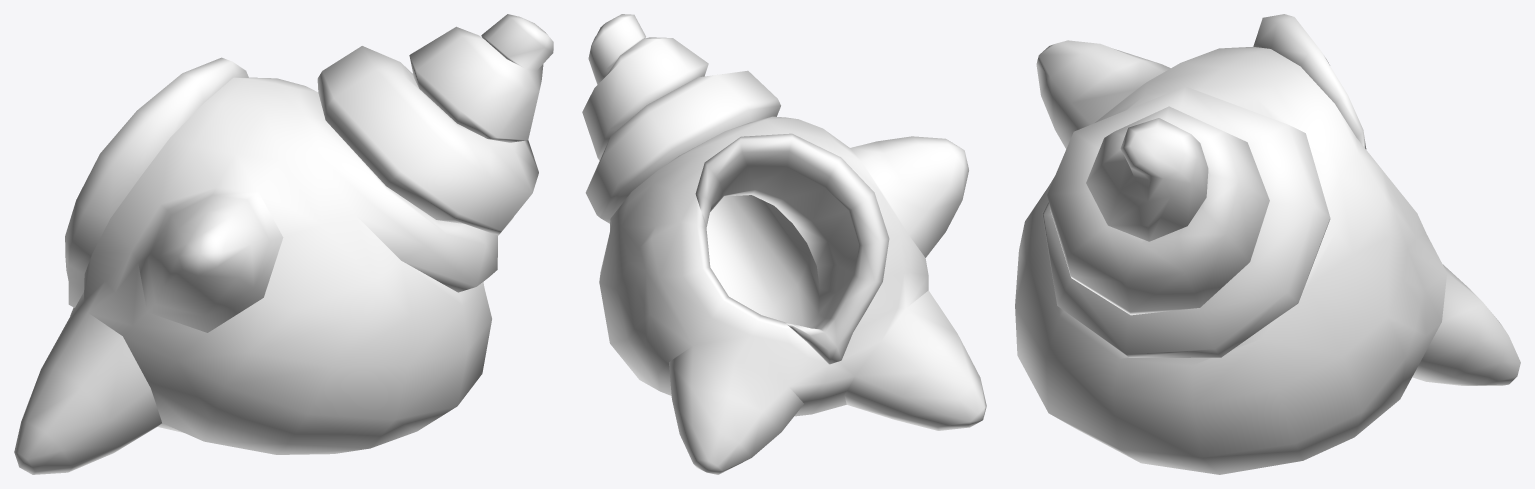
File: Prop_MusicShell.glb
3 renders of one model, left to right at view 1: azimuth 30°, elevation 25°; view 2: azimuth 150°, elevation 25°; view 3: azimuth 270°, elevation 25°, orthographic. The views are drawn at different scales.
Parts seen in each view (by area): view 1: Prop_MusicShell; view 2: Prop_MusicShell; view 3: Prop_MusicShell.
Boxes of the visible parts, x1,y1,x2,y2 form: Prop_MusicShell: [14, 14, 553, 474]; Prop_MusicShell: [582, 14, 986, 474]; Prop_MusicShell: [1015, 14, 1520, 474].
Bounding box in the file's own units: 4.67 × 3.37 × 3.79.
Materials: 1 (1 with a texture image).
